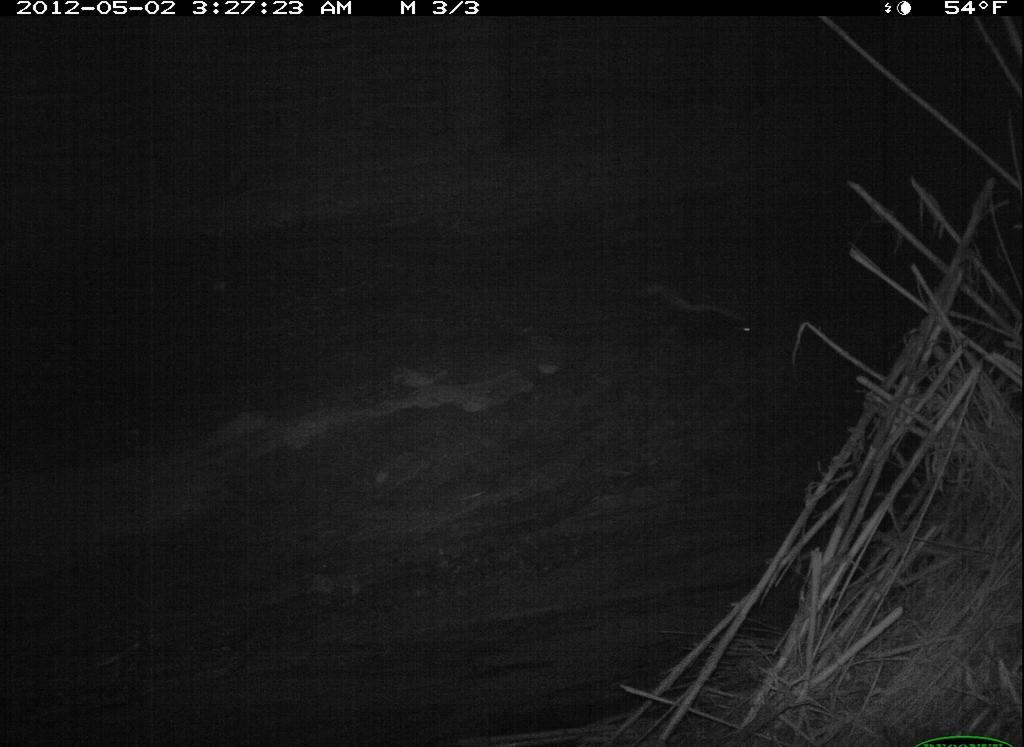skunk: (615, 268, 772, 349)
